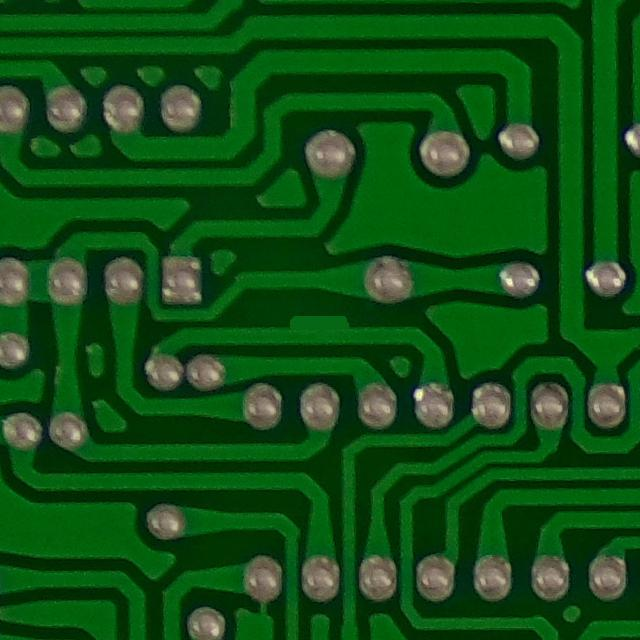spur: (270, 299, 370, 341)
